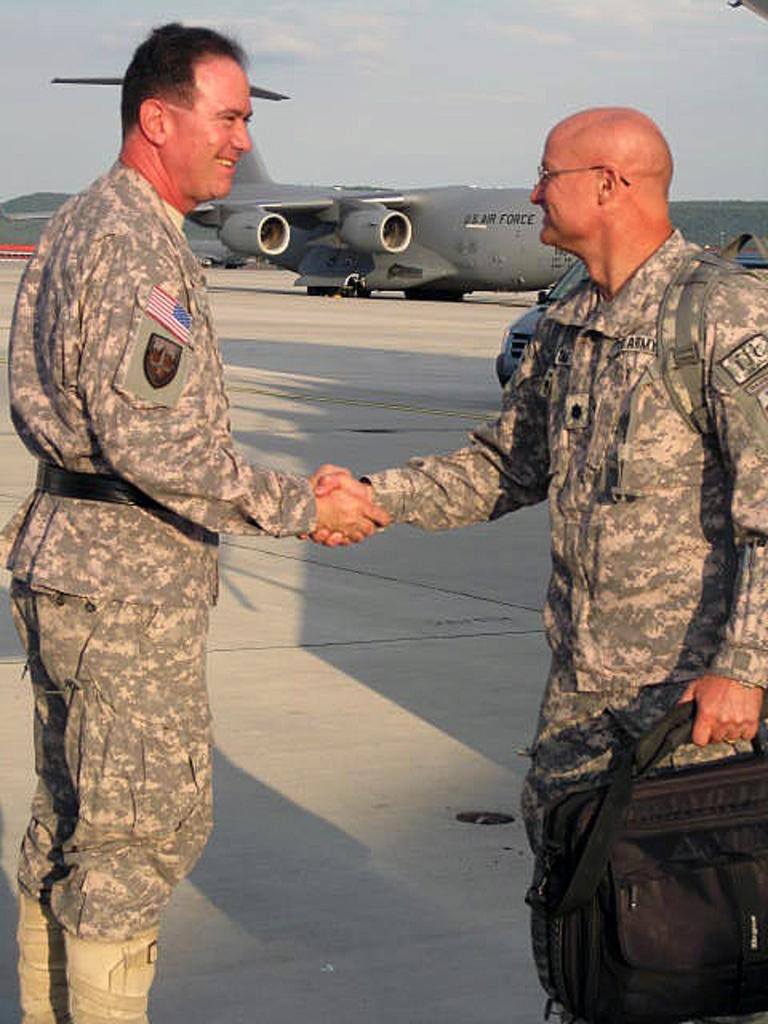Luggage-and-bags: (525, 232, 766, 560), (528, 691, 749, 1021)
